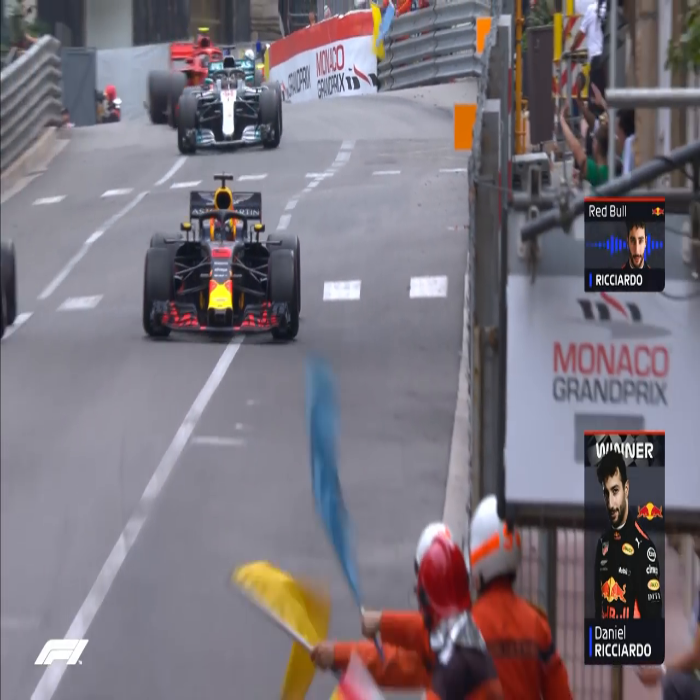f1_car: (135, 172, 317, 362), (166, 58, 295, 158)
